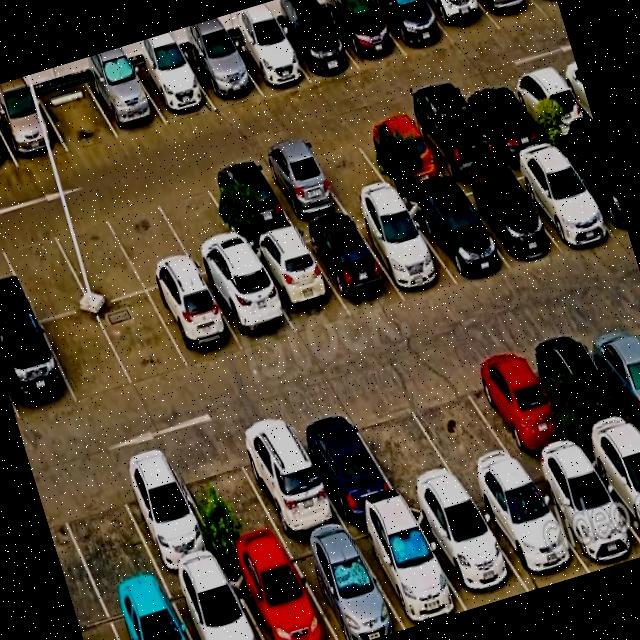empty: (399, 362, 524, 489), (169, 436, 285, 562), (50, 468, 161, 599), (343, 384, 463, 503), (152, 175, 250, 275), (48, 207, 146, 306), (103, 193, 198, 290), (94, 291, 189, 386), (40, 308, 133, 404), (0, 223, 90, 321), (302, 130, 393, 208), (37, 79, 118, 152)
occupied: (228, 413, 345, 542), (459, 345, 579, 469), (109, 451, 222, 579), (468, 471, 589, 590), (347, 508, 466, 629), (408, 492, 528, 610), (286, 401, 401, 523), (527, 326, 640, 448), (526, 454, 640, 572), (284, 528, 404, 640), (504, 148, 615, 249), (401, 186, 510, 285), (248, 231, 350, 336), (223, 546, 336, 640), (451, 169, 559, 267), (299, 215, 403, 316), (350, 201, 457, 297), (148, 276, 244, 369), (201, 261, 297, 351), (202, 159, 295, 244), (404, 97, 500, 179), (0, 319, 76, 422), (555, 135, 629, 237), (164, 564, 262, 640), (576, 312, 640, 428), (255, 145, 345, 225), (354, 113, 446, 190), (459, 79, 547, 156), (506, 65, 594, 140), (274, 10, 359, 82), (321, 0, 406, 70), (84, 66, 166, 138), (131, 54, 215, 124), (584, 432, 640, 537), (227, 28, 310, 95), (183, 41, 261, 109), (102, 581, 191, 640), (0, 93, 67, 167), (370, 0, 453, 56), (421, 0, 500, 45), (477, 0, 546, 29)
